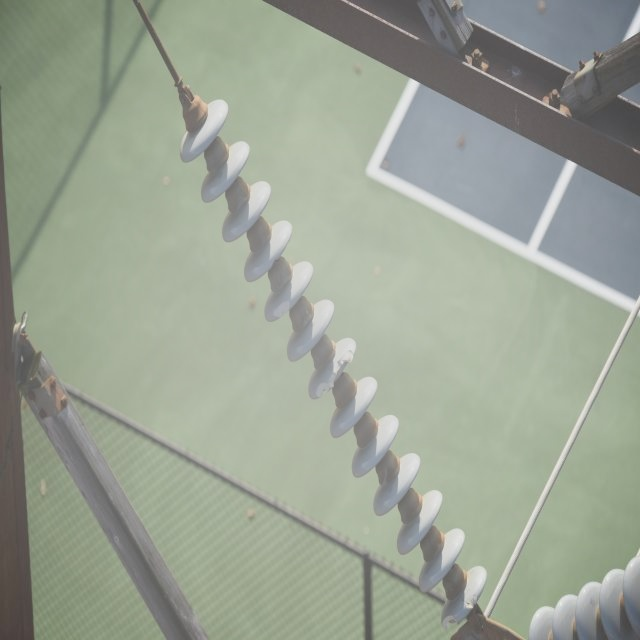broken: (314, 345, 358, 403), (441, 590, 482, 629), (273, 295, 293, 318)
insulator: (180, 95, 486, 630), (527, 540, 640, 638)
